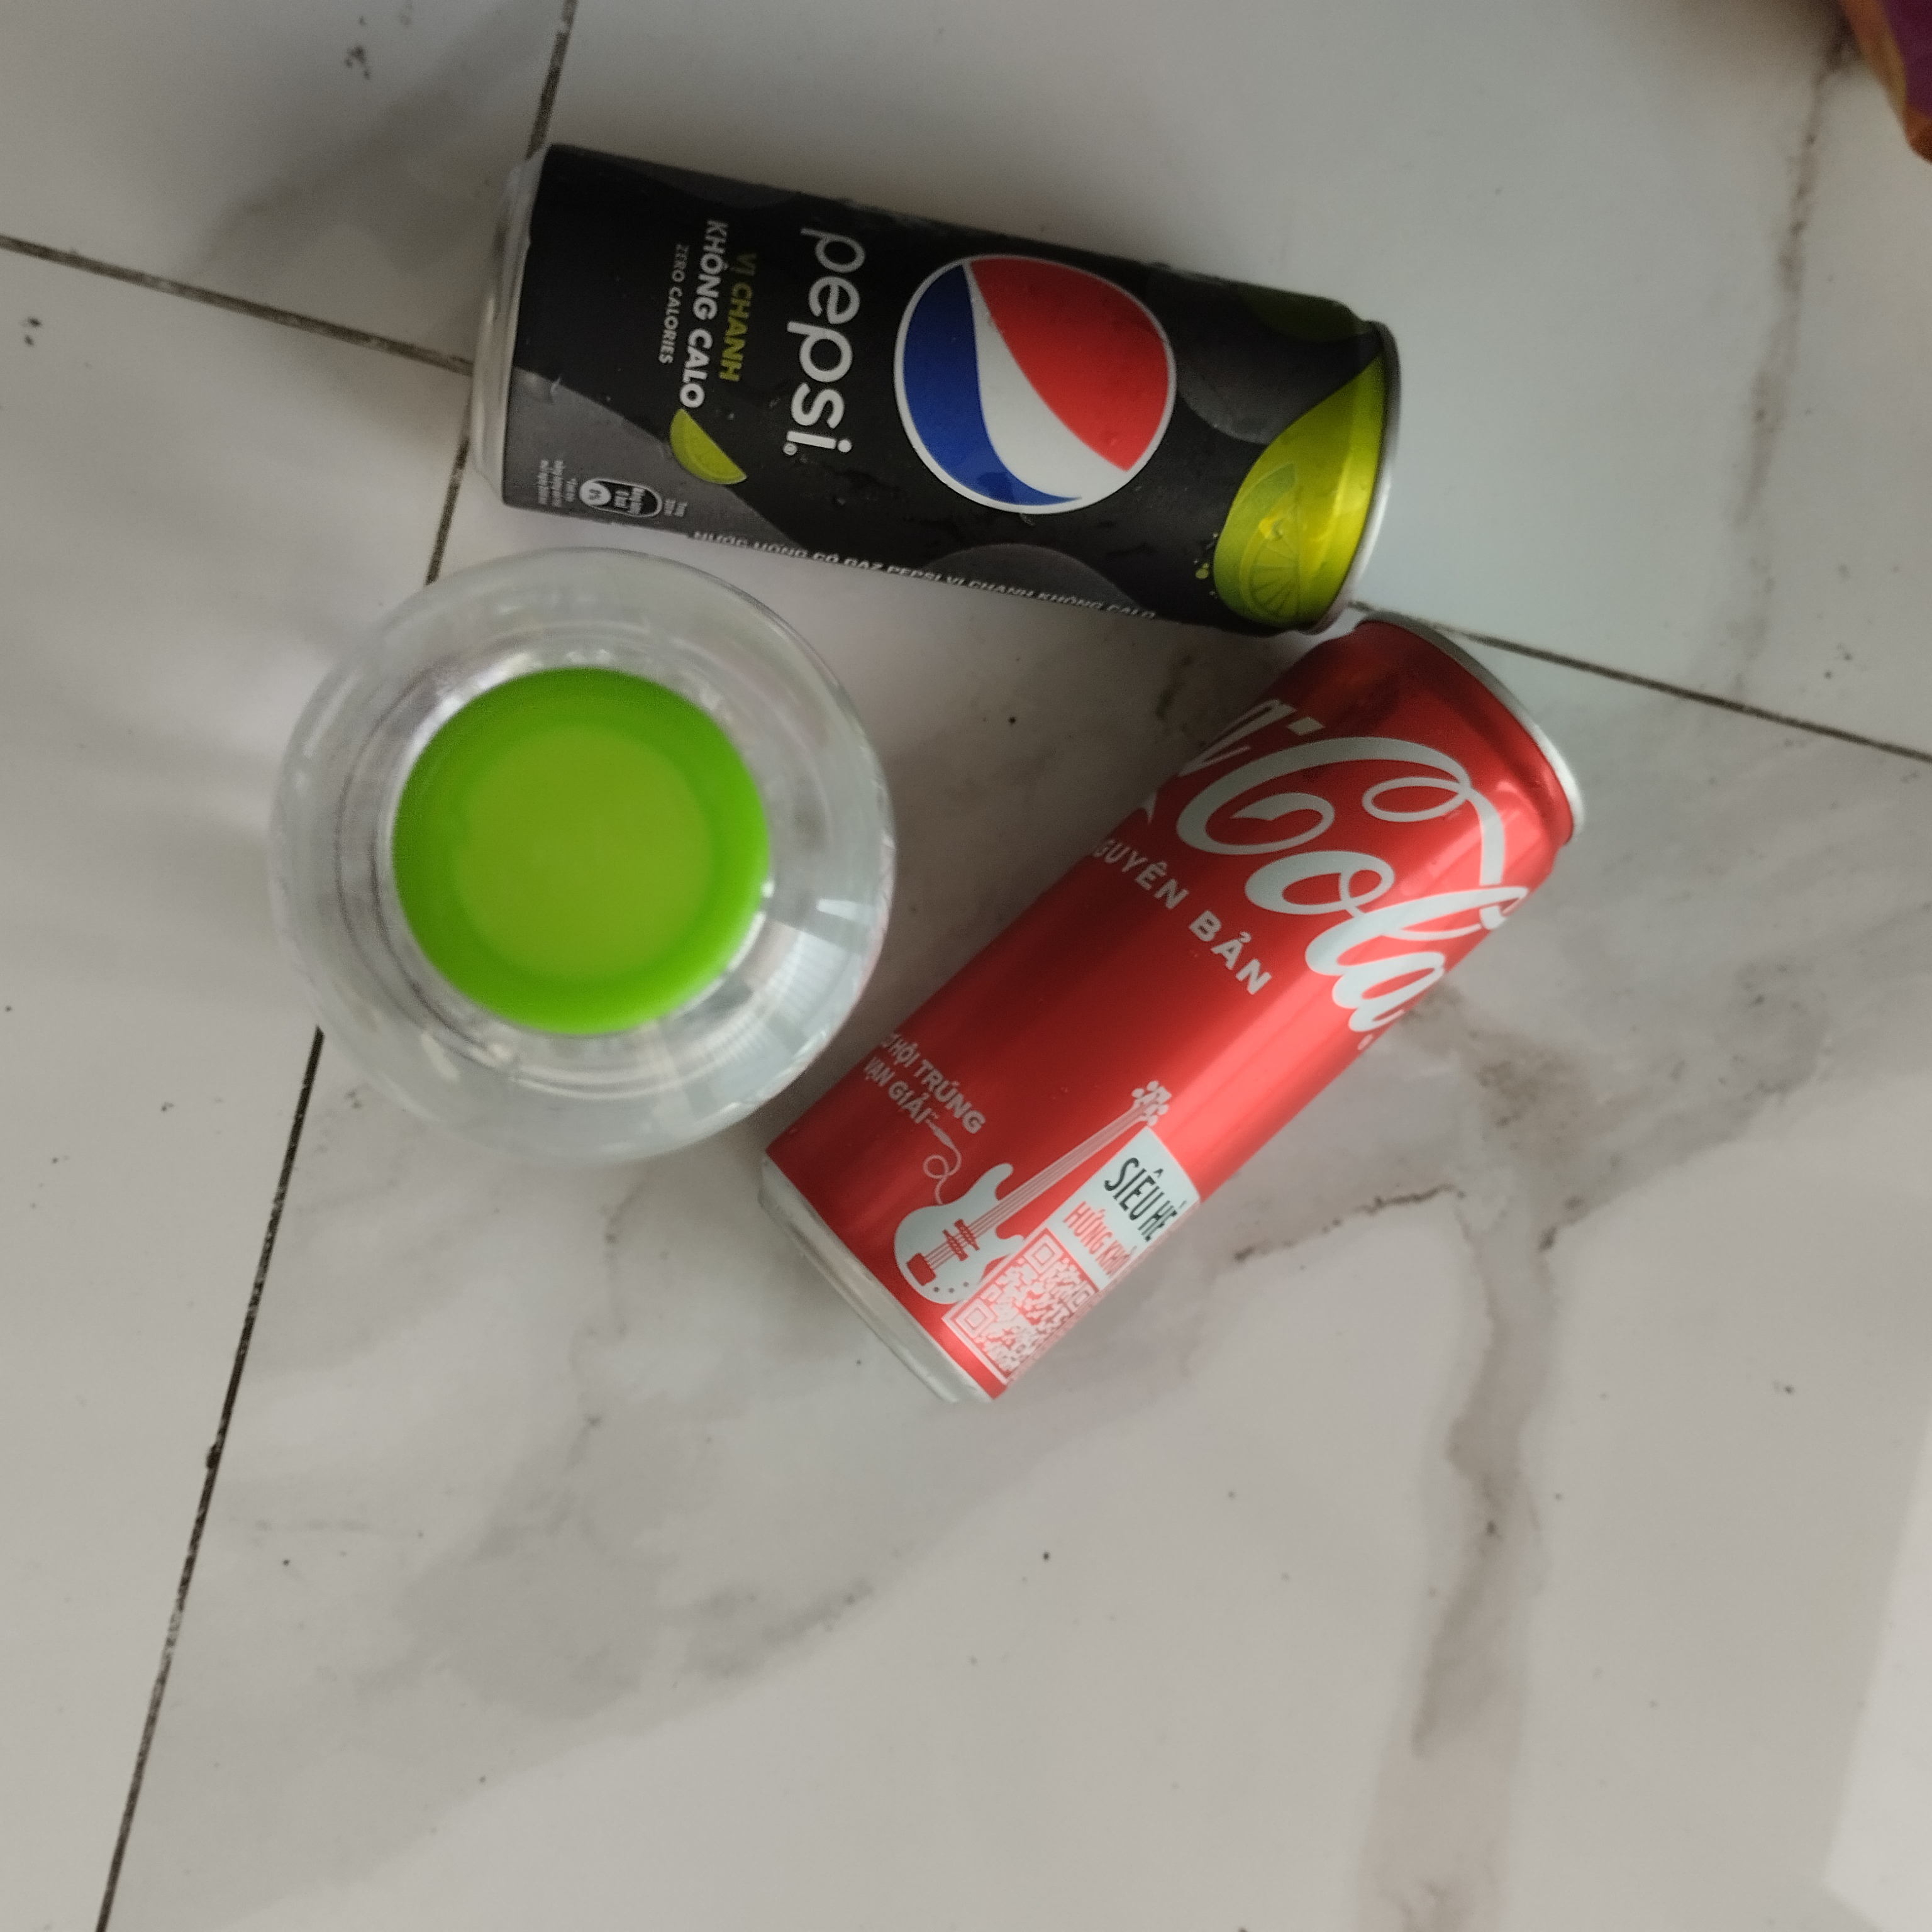Coca: (752, 616, 1610, 1424)
Dasani: (267, 547, 902, 1175)
Pepsi: (464, 140, 1396, 633)
